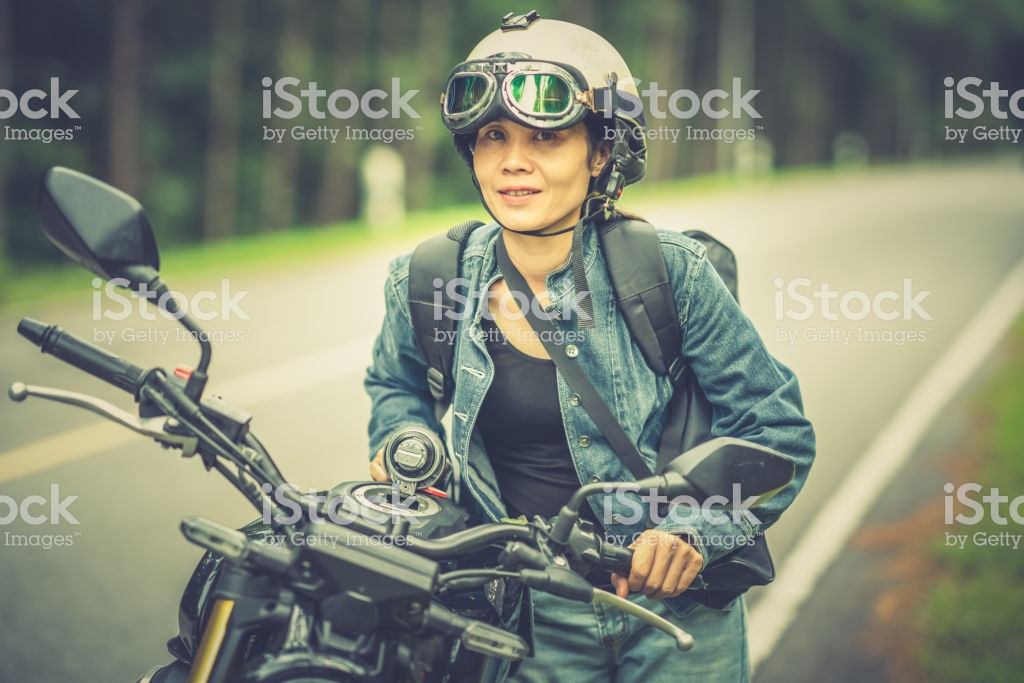helmet: (452, 14, 637, 138)
